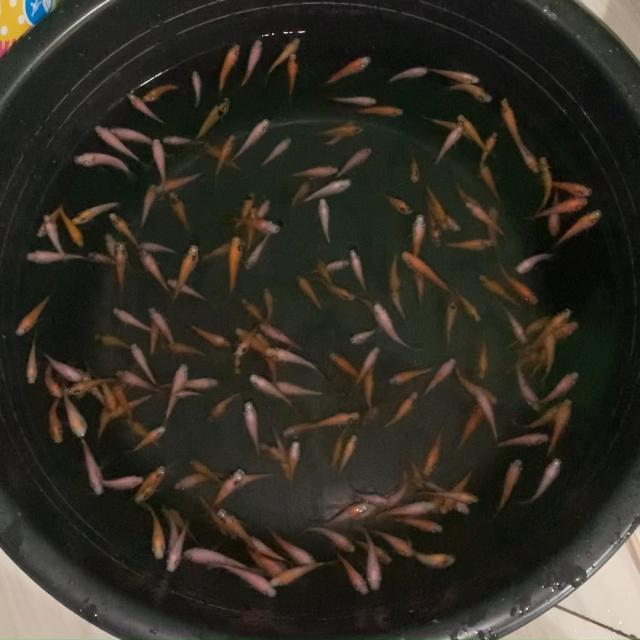nila: (205, 560, 281, 599), (92, 121, 150, 170), (263, 522, 319, 570), (180, 544, 265, 574), (403, 249, 453, 296), (372, 301, 416, 354), (496, 258, 542, 307), (520, 456, 564, 506), (74, 150, 134, 185), (197, 498, 241, 544), (458, 112, 500, 160), (266, 560, 329, 591), (530, 368, 580, 407), (38, 346, 92, 382), (228, 116, 270, 162), (464, 198, 510, 240), (246, 373, 298, 410), (262, 33, 302, 81), (554, 208, 602, 248), (543, 396, 574, 456), (422, 478, 472, 515), (194, 94, 232, 142), (452, 366, 500, 404), (532, 302, 576, 343), (12, 294, 53, 338), (160, 363, 189, 425), (508, 399, 560, 432), (492, 456, 522, 513), (506, 311, 554, 346), (270, 346, 326, 376), (501, 94, 528, 156), (216, 504, 254, 548), (134, 462, 171, 507), (382, 389, 420, 432), (296, 176, 354, 204), (479, 268, 519, 308), (78, 436, 104, 496), (153, 166, 203, 197), (172, 243, 200, 298), (298, 524, 352, 552), (458, 397, 488, 447), (70, 197, 121, 226), (324, 54, 370, 86), (441, 470, 473, 516), (140, 250, 172, 296), (244, 544, 287, 578), (338, 551, 369, 598), (165, 516, 191, 572), (532, 197, 590, 222), (360, 526, 383, 589), (352, 340, 382, 388), (259, 322, 305, 353), (513, 369, 546, 412), (60, 388, 88, 438), (267, 425, 292, 481), (313, 500, 371, 524), (183, 322, 234, 349), (141, 502, 166, 557), (451, 286, 486, 325), (424, 356, 458, 396), (254, 334, 281, 384), (332, 146, 374, 178), (240, 398, 261, 460), (212, 133, 238, 183), (246, 226, 276, 269), (423, 199, 462, 232), (420, 113, 478, 135), (148, 306, 178, 348), (110, 304, 152, 334), (58, 198, 84, 246), (218, 43, 241, 97), (115, 367, 162, 393), (111, 391, 153, 420), (434, 122, 466, 160), (238, 36, 262, 86), (374, 528, 414, 558), (544, 173, 594, 197), (492, 430, 552, 450), (164, 503, 197, 539), (228, 213, 284, 234), (246, 534, 288, 562), (170, 193, 195, 240), (205, 142, 244, 172), (226, 234, 246, 292), (258, 134, 294, 166), (130, 464, 166, 496), (423, 426, 446, 476), (98, 386, 120, 438), (124, 417, 162, 447), (212, 468, 242, 506), (108, 213, 142, 246), (130, 423, 164, 456), (295, 272, 323, 312), (126, 92, 162, 123), (105, 233, 135, 270), (75, 364, 104, 402), (166, 274, 205, 302), (356, 294, 386, 330), (130, 342, 157, 382), (408, 254, 430, 303), (478, 392, 500, 441), (316, 195, 336, 248), (386, 366, 434, 388), (207, 392, 240, 424), (438, 234, 496, 252), (337, 432, 363, 472), (442, 286, 458, 351), (528, 341, 556, 378), (478, 162, 505, 200), (488, 203, 508, 254), (36, 204, 66, 238), (169, 470, 220, 490), (540, 319, 586, 341), (445, 81, 493, 102), (426, 182, 447, 230), (153, 377, 220, 392), (24, 249, 86, 265), (474, 130, 500, 168), (504, 309, 530, 347), (48, 392, 66, 446), (349, 251, 373, 291), (514, 250, 554, 274), (306, 412, 359, 430), (321, 118, 356, 145), (351, 540, 392, 563), (426, 200, 444, 252), (68, 377, 120, 395), (138, 181, 157, 230), (161, 506, 180, 555), (114, 239, 130, 297), (430, 66, 484, 83), (290, 164, 340, 182), (328, 350, 358, 380), (108, 128, 158, 146), (456, 182, 484, 214), (186, 460, 223, 484), (234, 321, 260, 355), (411, 549, 460, 567), (200, 240, 240, 262), (41, 356, 64, 394), (98, 472, 146, 490), (257, 441, 294, 464), (386, 250, 403, 300), (314, 256, 339, 290), (152, 137, 168, 190), (348, 321, 383, 345), (422, 488, 482, 502), (378, 502, 434, 517), (42, 210, 62, 252), (384, 66, 428, 85), (288, 176, 314, 208), (538, 154, 552, 213), (326, 427, 346, 468), (144, 81, 183, 102), (516, 138, 540, 172), (284, 51, 300, 101), (395, 516, 445, 532), (548, 185, 564, 235), (232, 192, 252, 232), (90, 330, 130, 350), (26, 328, 40, 385), (507, 348, 540, 372), (238, 326, 266, 354), (411, 212, 428, 258), (391, 292, 414, 326), (162, 342, 208, 359), (274, 382, 326, 397), (350, 487, 393, 505), (332, 90, 380, 106), (389, 472, 412, 505), (319, 124, 366, 140), (382, 191, 413, 215), (406, 457, 426, 494), (307, 258, 348, 276), (542, 328, 556, 378), (84, 250, 122, 268), (115, 384, 133, 422), (362, 362, 376, 410), (136, 238, 177, 254), (288, 438, 300, 491), (240, 298, 266, 322), (245, 204, 258, 250), (97, 374, 114, 409), (320, 284, 352, 302), (478, 334, 491, 378), (262, 285, 277, 323), (357, 106, 408, 117), (162, 134, 208, 146), (146, 316, 160, 354), (283, 422, 321, 436), (231, 473, 271, 486), (192, 70, 204, 112), (430, 484, 446, 514), (408, 152, 422, 184), (232, 346, 244, 378), (258, 193, 274, 216), (174, 391, 207, 401)
